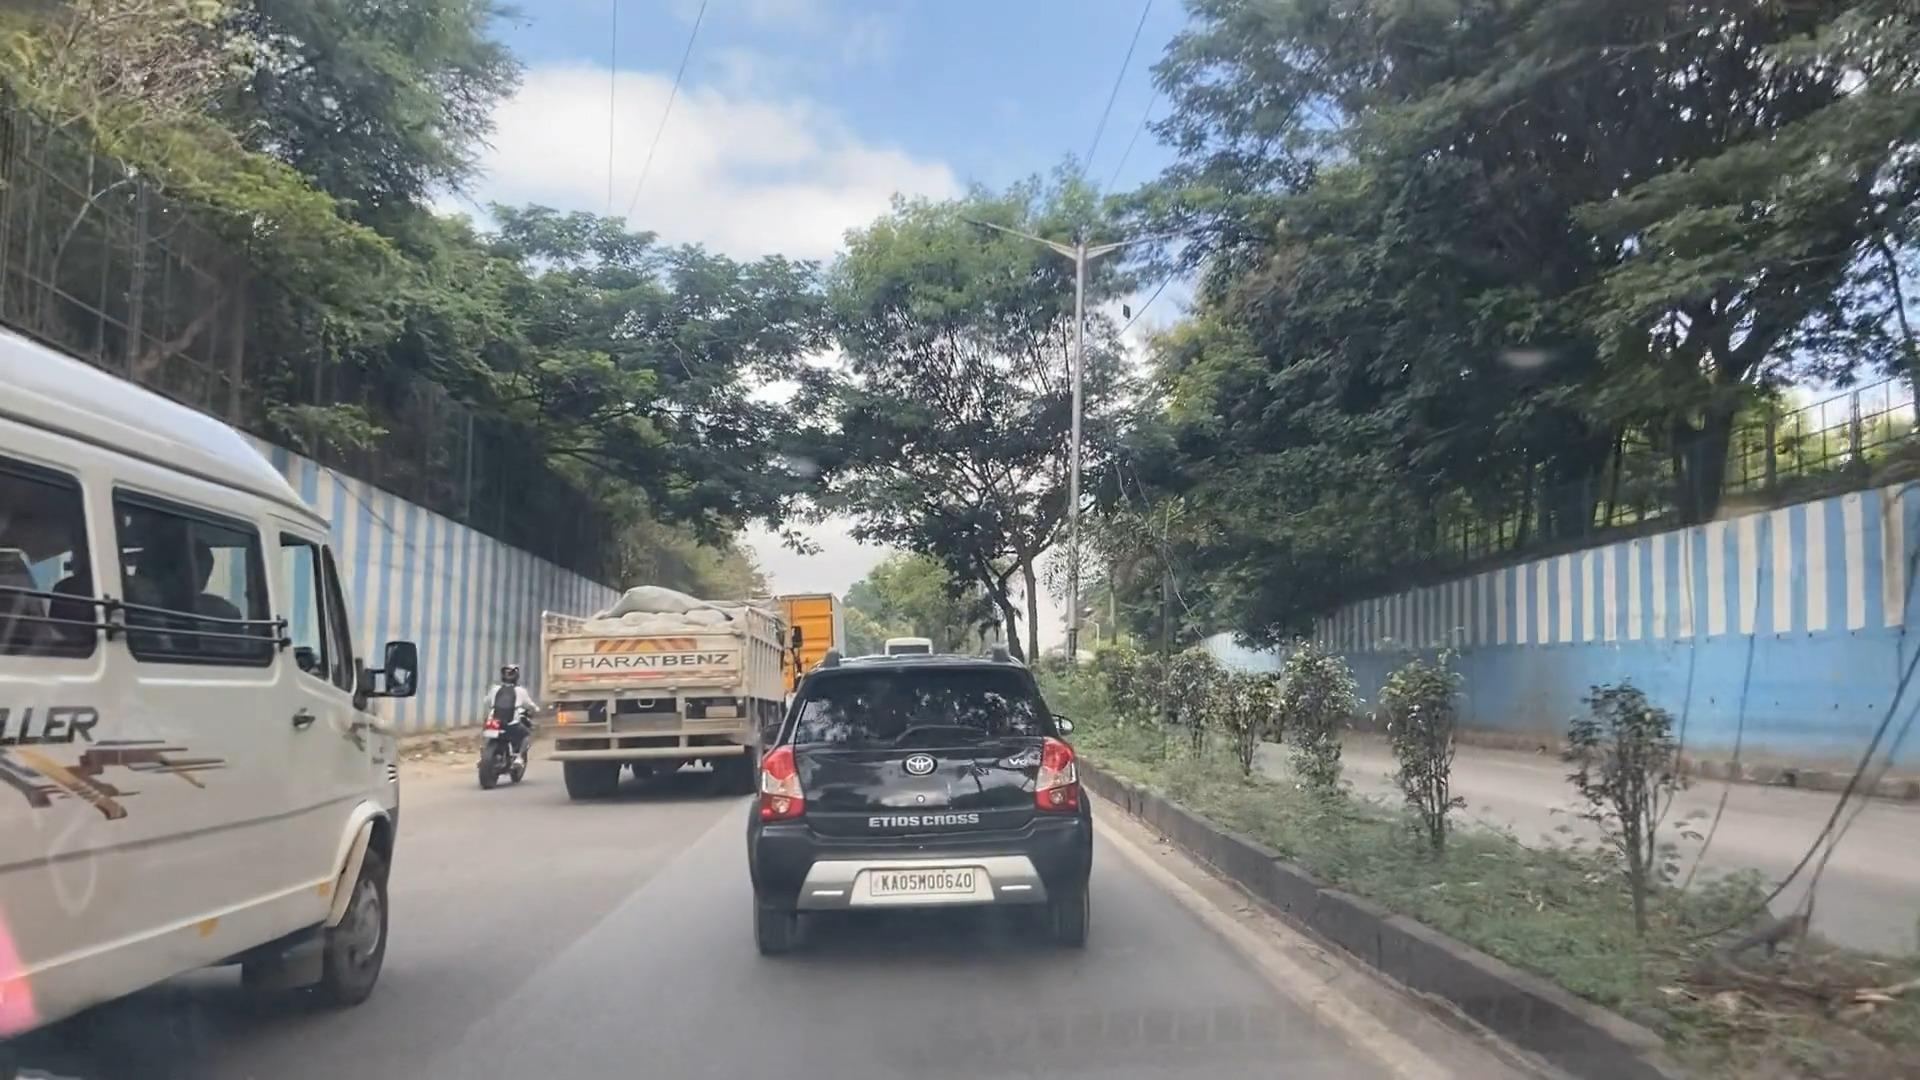HMV: (0, 309, 462, 1080), (542, 524, 796, 803)
LMV: (707, 608, 1130, 992), (451, 597, 545, 804)
